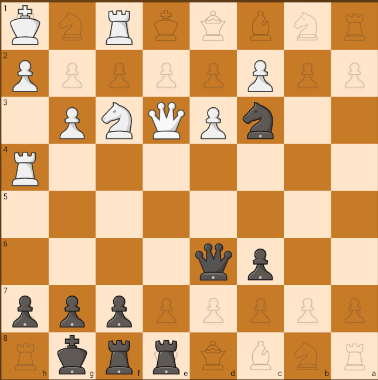bk: (52, 333, 92, 378)
bp: (99, 288, 139, 330), (5, 290, 43, 331), (241, 240, 278, 282), (54, 289, 88, 329)
bq: (191, 240, 235, 284), (239, 99, 280, 142)
br: (146, 338, 187, 375), (101, 336, 137, 376)
wk: (4, 4, 45, 48)
wp: (3, 50, 46, 96), (192, 99, 233, 141), (242, 54, 278, 94)
wq: (96, 101, 139, 142), (147, 98, 186, 141)
wr: (1, 146, 45, 190), (103, 1, 138, 47), (52, 103, 91, 141)
